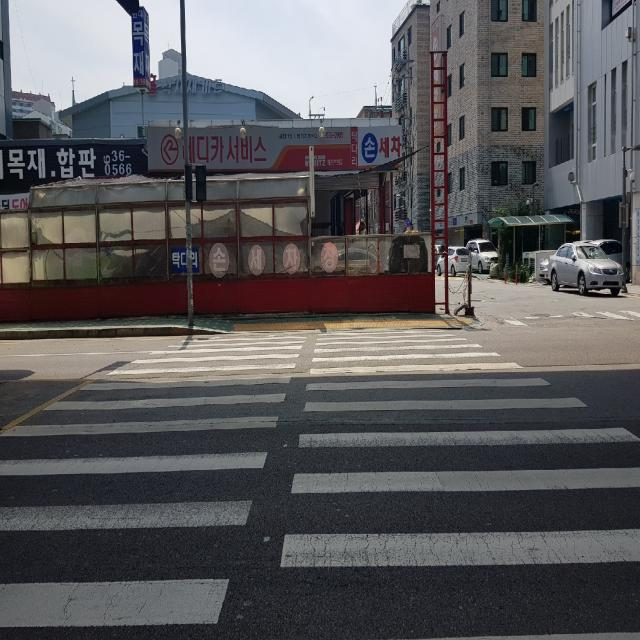횡단보도: (1, 329, 639, 633)
